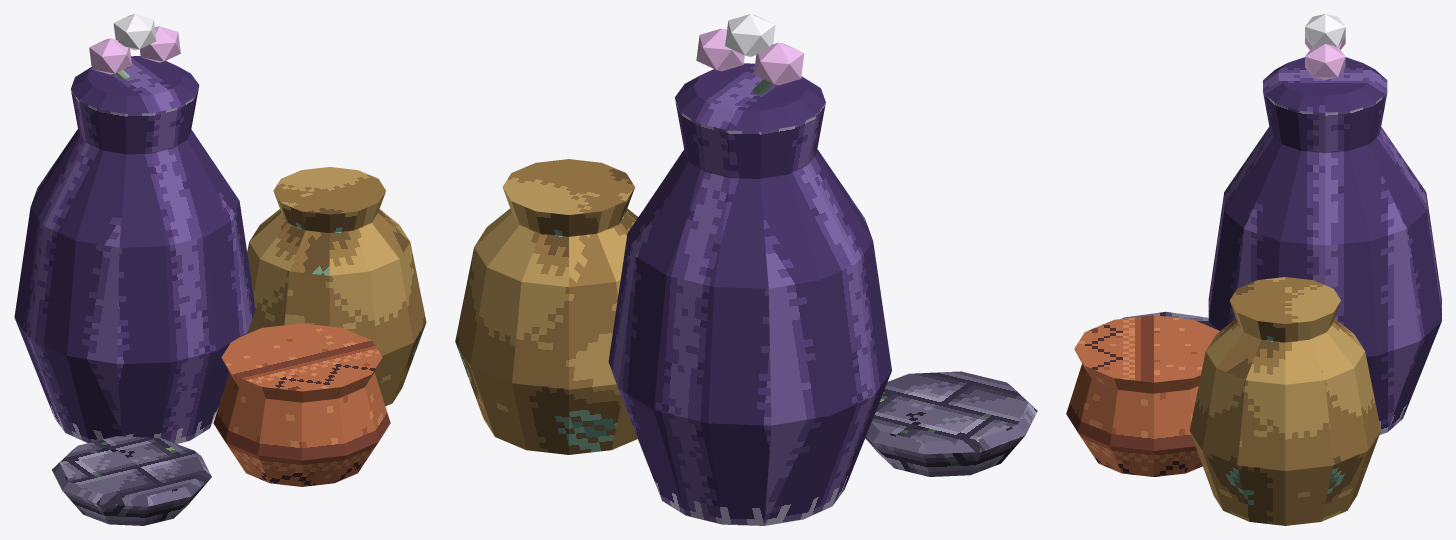
File: tower_pots.glb
3 views of the same model, side by side, from view 1: azimuth 30°, elevation 25°; view 2: azimuth 150°, elevation 25°; view 3: azimuth 270°, elevation 25° (orthographic). The views are drawn at different scales.
Visible parts, largest first — view 1: Pots; view 2: Pots; view 3: Pots.
Part boxes in pixels (x1,y1,x2,y2): Pots: (14, 14, 426, 525); Pots: (455, 14, 1037, 525); Pots: (1066, 14, 1441, 525).
Size of the model in its own units: 1.18 by 1.12 by 0.9425.
7 materials, 4 textured.
